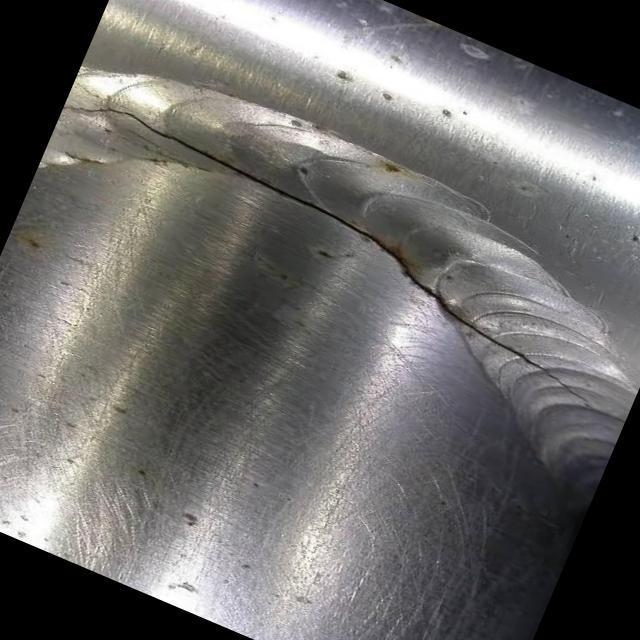defect: (65, 101, 603, 414)
